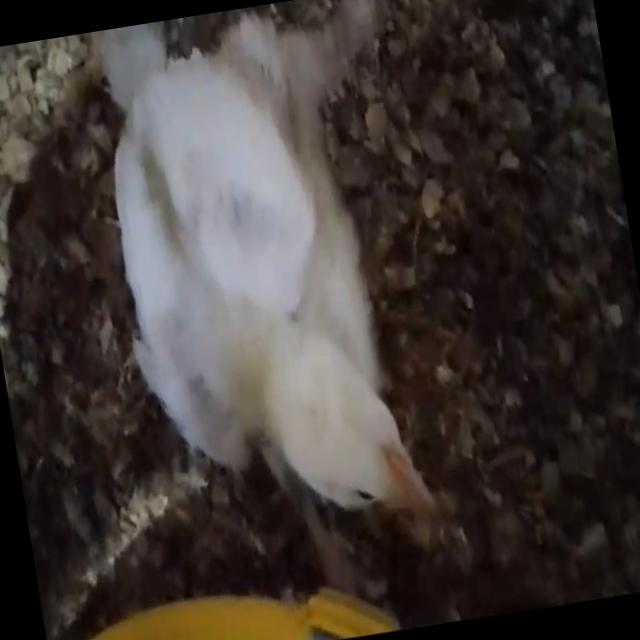abnormal chicken: (70, 0, 461, 574)
